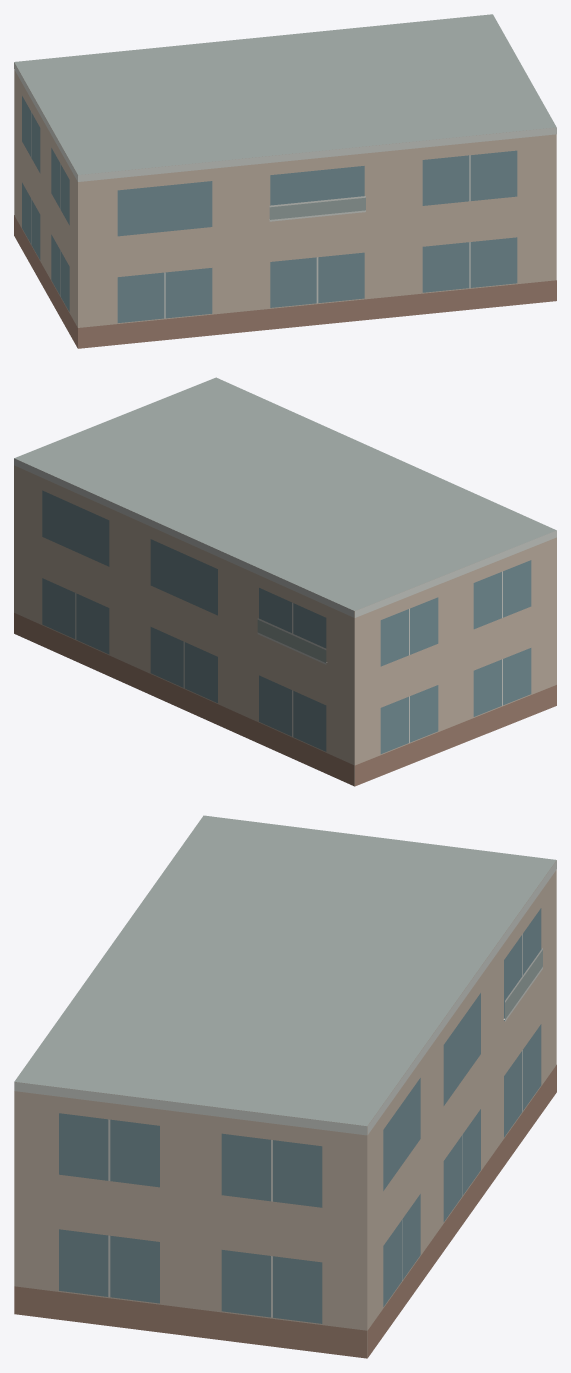
Rendered from survey-upis-32819232.glb.
The picture shows the model from 3 angles, top to bottom: view 1: azimuth 30°, elevation 25°; view 2: azimuth 150°, elevation 25°; view 3: azimuth 270°, elevation 25°; orthographic projection. The views are drawn at different scales.
Parts seen in each view (by area): view 1: survey-upis-32819232.tmp; view 2: survey-upis-32819232.tmp; view 3: survey-upis-32819232.tmp.
Part boxes in pixels (x1,y1,x2,y2): survey-upis-32819232.tmp: (14, 14, 556, 348); survey-upis-32819232.tmp: (14, 377, 556, 786); survey-upis-32819232.tmp: (14, 815, 556, 1358).
Size of the model in its own units: 17.52 by 6.1 by 12.93.
